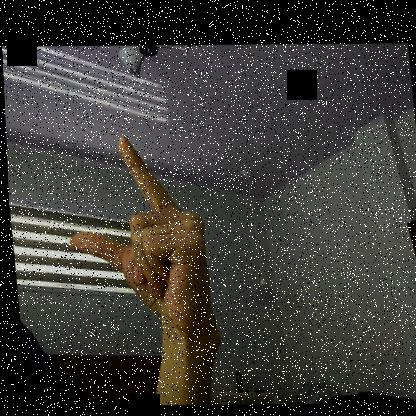L: (55, 127, 218, 338)
